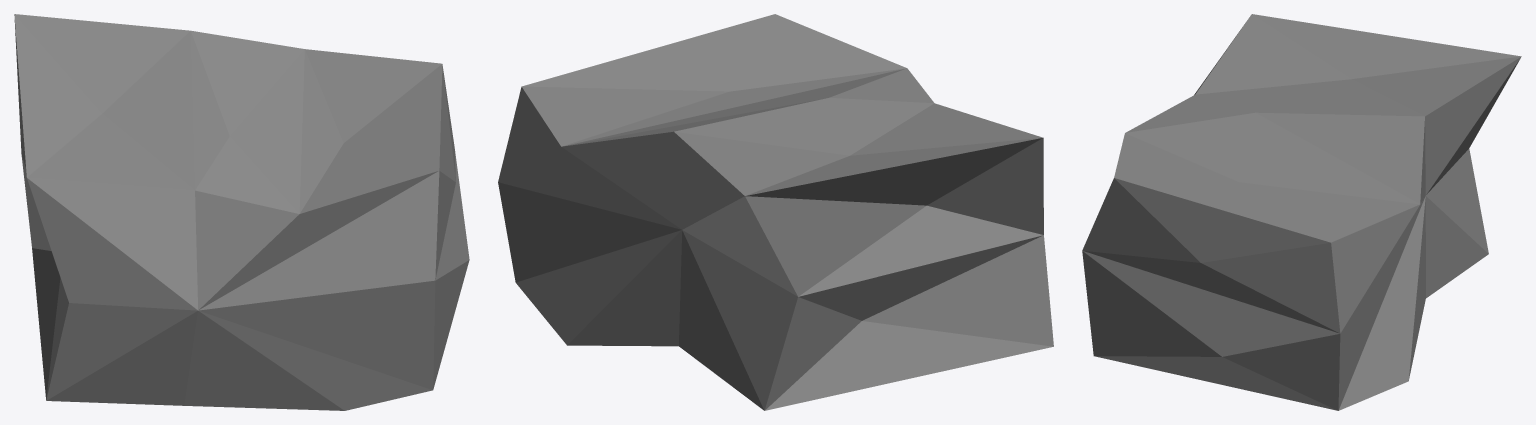
The model's file is rock_03_a.fbx.
3 views of the same model, side by side, from view 1: azimuth 30°, elevation 25°; view 2: azimuth 150°, elevation 25°; view 3: azimuth 270°, elevation 25° (orthographic). The views are drawn at different scales.
Visible parts, largest first — view 1: Rock_03_a; view 2: Rock_03_a; view 3: Rock_03_a.
Part boxes in pixels (x1,y1,x2,y2): Rock_03_a: [14, 14, 469, 410]; Rock_03_a: [498, 14, 1053, 410]; Rock_03_a: [1082, 14, 1521, 410].
Size of the model in its own units: 21.59 by 19.18 by 11.08.
